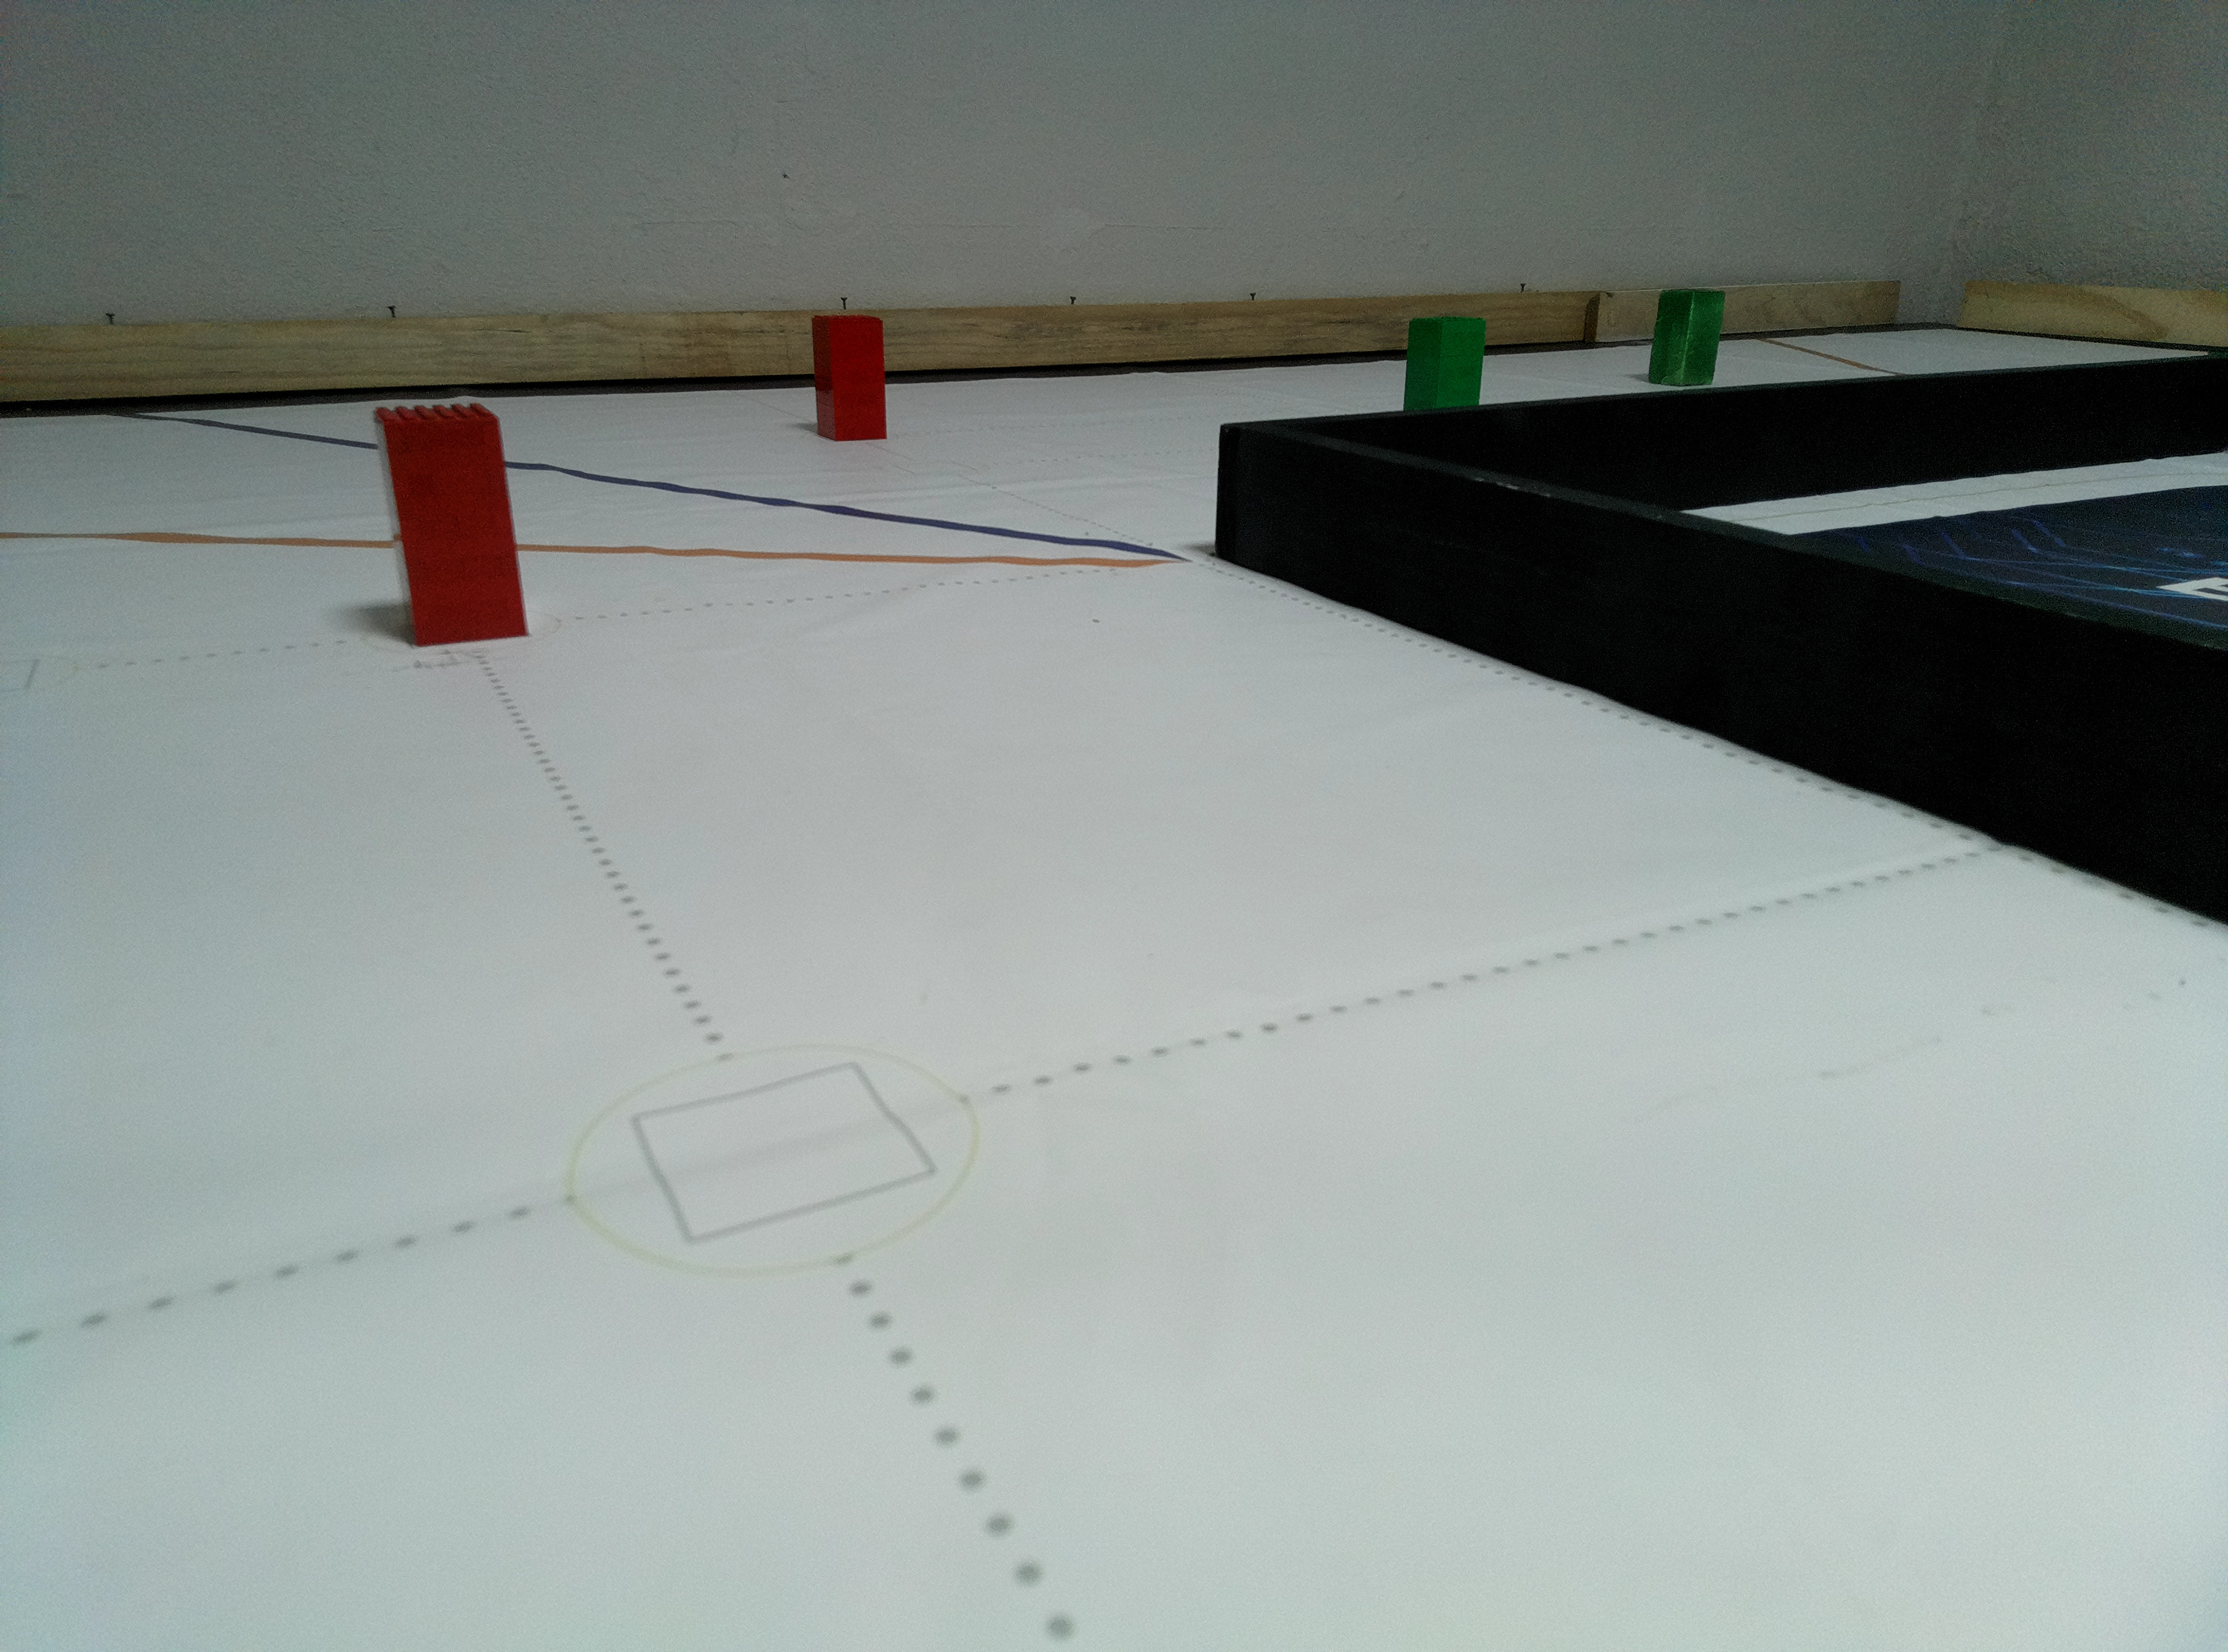greenbox: (1647, 290, 1727, 389), (1402, 316, 1485, 410)
redbox: (368, 404, 531, 649), (809, 316, 890, 442)
